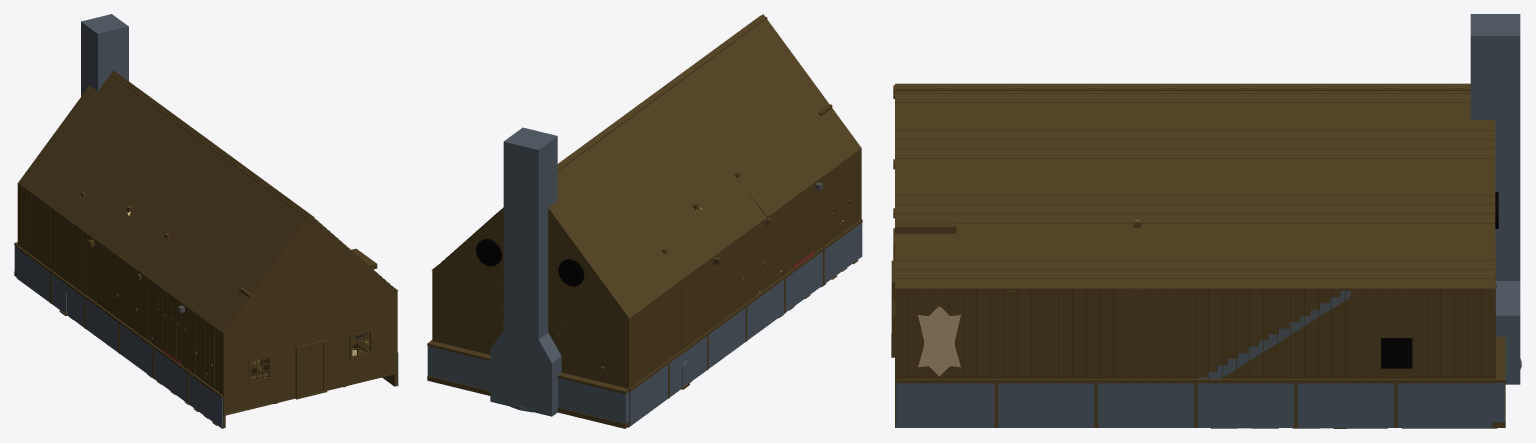
File: Cabin_Blockout_06.fbx
3 views of the same model, side by side, from view 1: azimuth 30°, elevation 25°; view 2: azimuth 150°, elevation 25°; view 3: azimuth 270°, elevation 25° (orthographic). The views are drawn at different scales.
Parts seen in each view (by area): view 1: polySurface1219; view 2: polySurface1219; view 3: polySurface1219.
Part boxes in pixels (x1=…): polySurface1219: x1=14, y1=14, x2=398, y2=428; polySurface1219: x1=427, y1=14, x2=862, y2=428; polySurface1219: x1=891, y1=14, x2=1521, y2=428.
Size of the model in its own units: 889 by 1111 by 1848.
